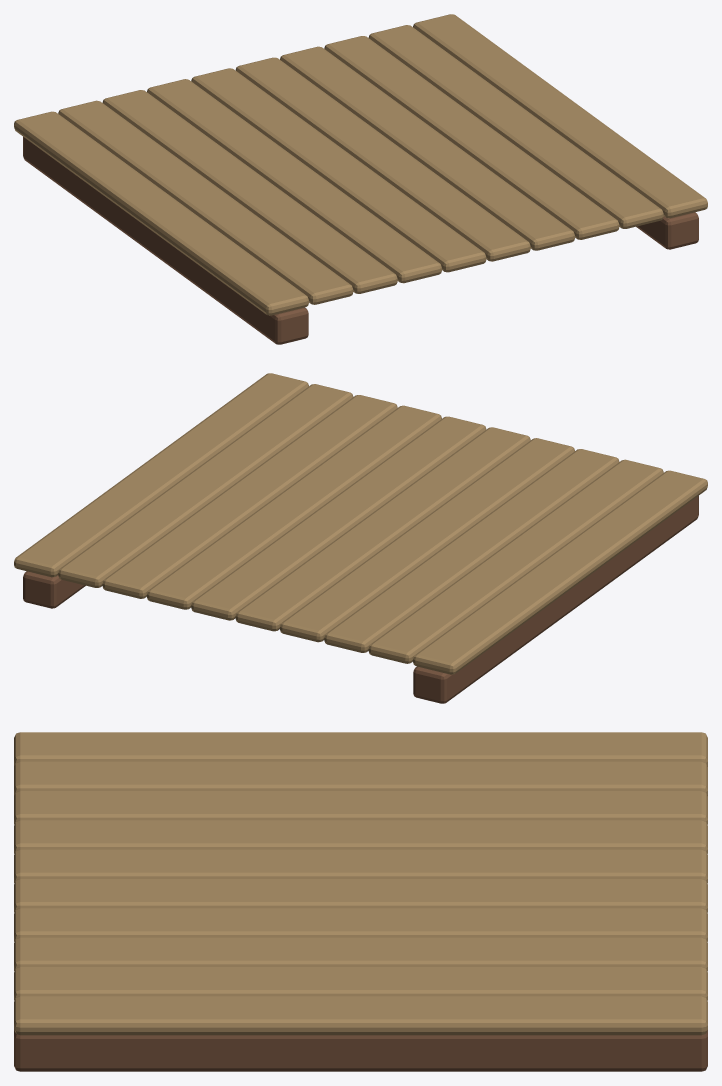
Rendered from floor_cell_2m__structure.glb.
3 renders of one model, top to bottom at view 1: azimuth 30°, elevation 25°; view 2: azimuth 150°, elevation 25°; view 3: azimuth 270°, elevation 25°, orthographic. The views are drawn at different scales.
Parts seen in each view (by area): view 1: floor_cell_2m__structure__mesh_00; view 2: floor_cell_2m__structure__mesh_00; view 3: floor_cell_2m__structure__mesh_00.
Boxes of the visible parts, x1,y1,x2,y2 form: floor_cell_2m__structure__mesh_00: (14, 14, 707, 344); floor_cell_2m__structure__mesh_00: (14, 373, 707, 703); floor_cell_2m__structure__mesh_00: (14, 732, 707, 1071).
Bounding box in the file's own units: 1.99 × 0.185 × 2.
